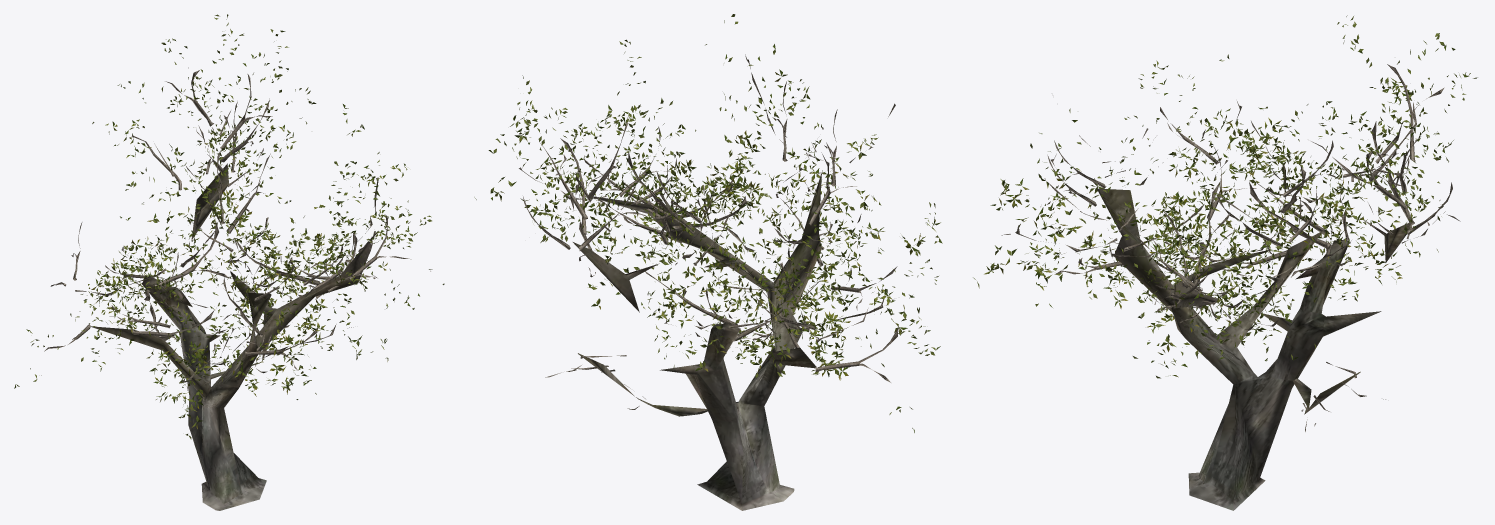
File: island_tree_01.lod.glb
3 views of the same model, side by side, from view 1: azimuth 30°, elevation 25°; view 2: azimuth 150°, elevation 25°; view 3: azimuth 270°, elevation 25° (orthographic). The views are drawn at different scales.
Visible parts, largest first — view 1: island_tree_01_LOD0; view 2: island_tree_01_LOD0; view 3: island_tree_01_LOD0.
Part boxes in pixels (<box>): island_tree_01_LOD0: <box>14,14,444,510</box>; island_tree_01_LOD0: <box>474,14,942,510</box>; island_tree_01_LOD0: <box>973,15,1477,510</box>.
Size of the model in its own units: 4.67 by 4.95 by 4.52.
Materials: 3 (3 with a texture image).
